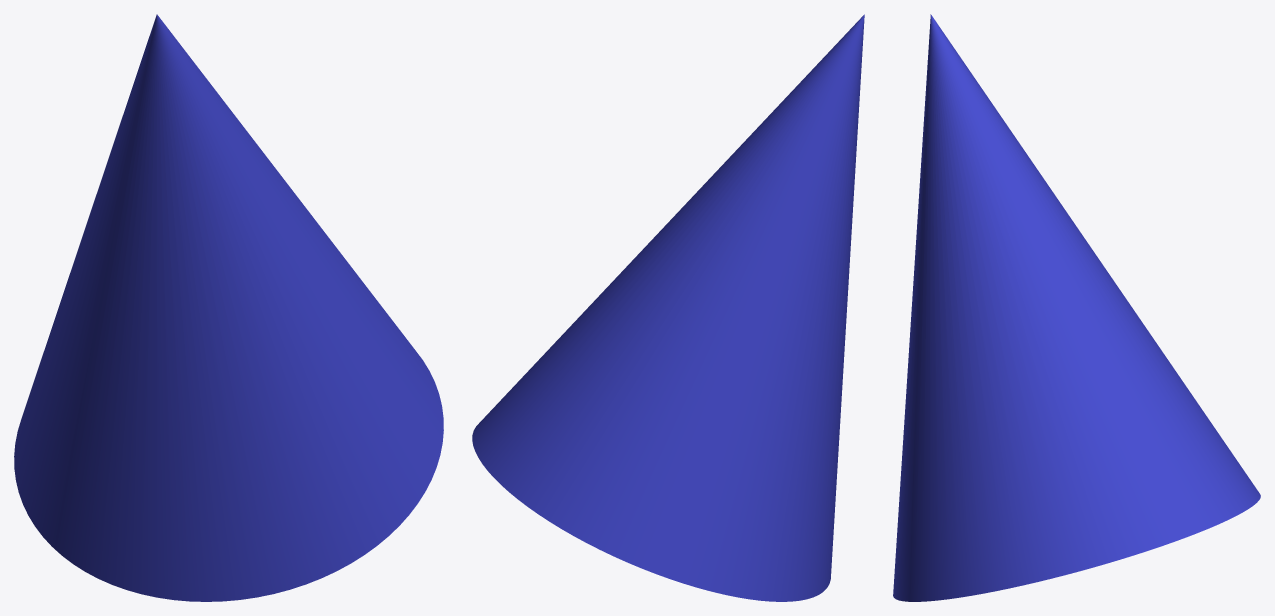
3 views of the same model, side by side, from view 1: azimuth 30°, elevation 25°; view 2: azimuth 150°, elevation 25°; view 3: azimuth 270°, elevation 25° (orthographic). The views are drawn at different scales.
Visible parts, largest first — view 1: root; view 2: root; view 3: root.
Boxes of the visible parts, x1,y1,x2,y2 form: root: (14,14,443,601); root: (472,14,864,601); root: (893,14,1260,601).
Size of the model in its own units: 0.2199 by 0.3531 by 0.2213.
Materials: 1 (1 with a texture image).
